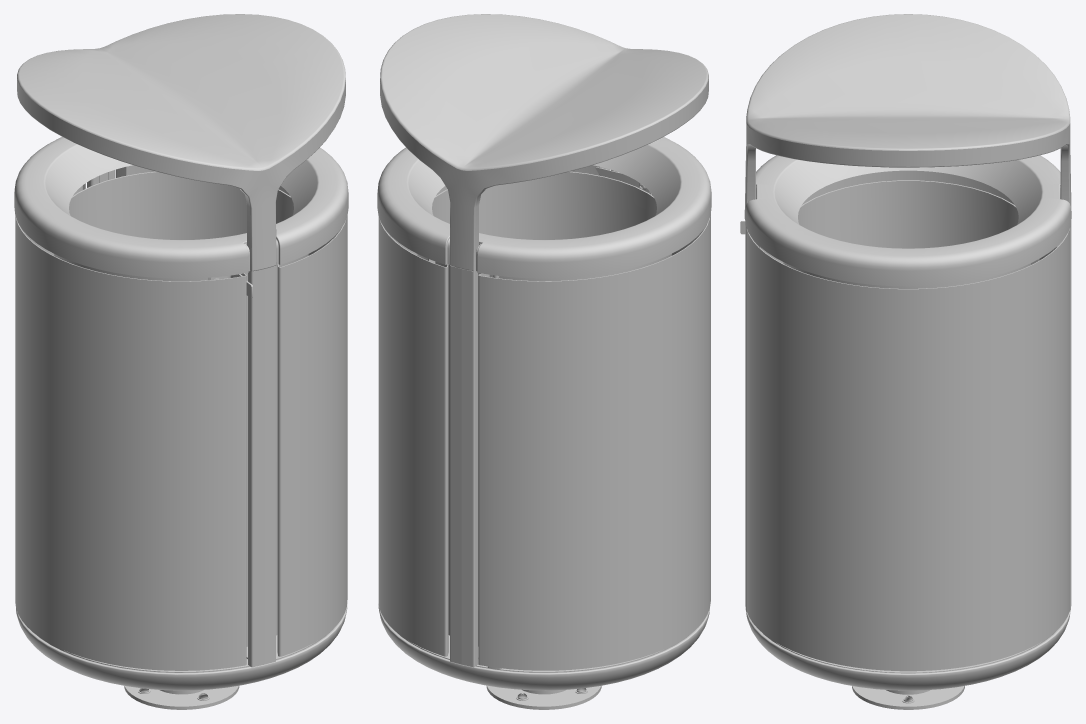
Rendered from Tonyo_Receptacle_30_Gallon.glb.
The picture shows the model from 3 angles, left to right: view 1: azimuth 30°, elevation 25°; view 2: azimuth 150°, elevation 25°; view 3: azimuth 270°, elevation 25°; orthographic projection.
Parts seen in each view (by area): view 1: Tonyo_Receptacle_30_Gallon; view 2: Tonyo_Receptacle_30_Gallon; view 3: Tonyo_Receptacle_30_Gallon.
Boxes of the visible parts, box(x1,y1,x2,y2) form: Tonyo_Receptacle_30_Gallon: box(14, 14, 348, 709); Tonyo_Receptacle_30_Gallon: box(377, 14, 711, 709); Tonyo_Receptacle_30_Gallon: box(740, 14, 1071, 709).
Size of the model in its own units: 0.5878 by 1.2 by 0.5937.
1 material, 1 textured.
